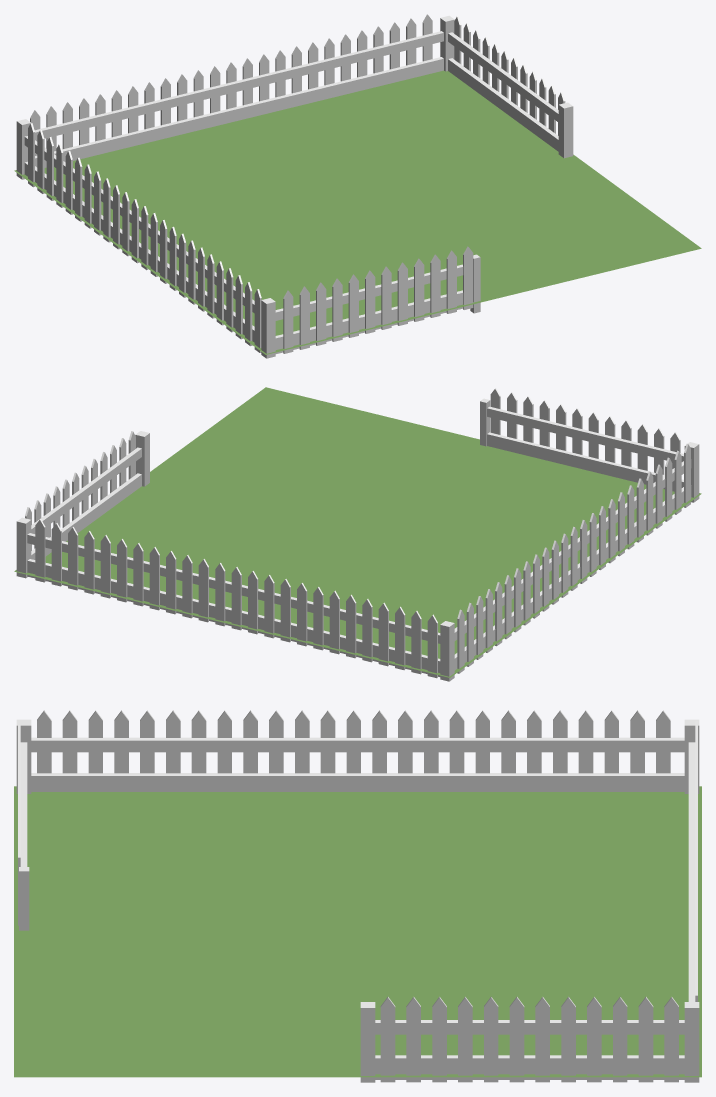
The model's file is tile_for_home_1x1_009.glb.
3 views of the same model, one above another, from view 1: azimuth 30°, elevation 25°; view 2: azimuth 150°, elevation 25°; view 3: azimuth 270°, elevation 25° (orthographic). The views are drawn at different scales.
Parts seen in each view (by area): view 1: tile_for_home_1x1_009; view 2: tile_for_home_1x1_009; view 3: tile_for_home_1x1_009.
Boxes of the visible parts, bbox=[...] form: tile_for_home_1x1_009: bbox=[14, 14, 701, 358]; tile_for_home_1x1_009: bbox=[14, 387, 701, 681]; tile_for_home_1x1_009: bbox=[14, 710, 701, 1082].
Bounding box in the file's own units: 8 × 1.19 × 8.
1 material, 1 textured.
